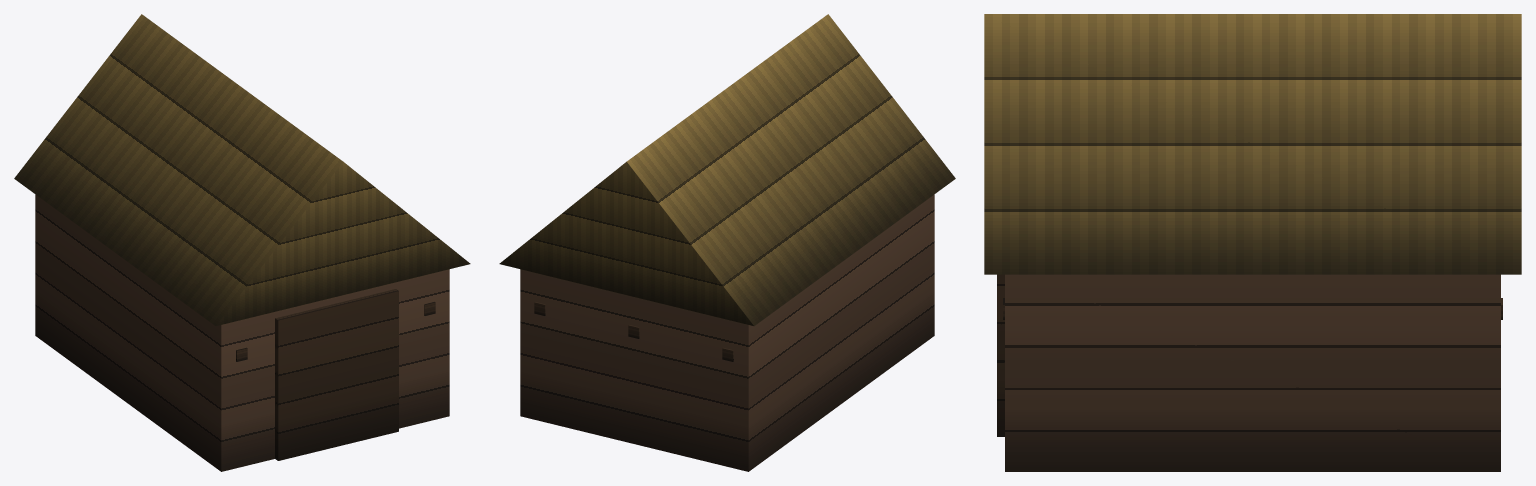
File: barn.glb
3 renders of one model, left to right at view 1: azimuth 30°, elevation 25°; view 2: azimuth 150°, elevation 25°; view 3: azimuth 270°, elevation 25°, orthographic. The views are drawn at different scales.
Visible parts, largest first — view 1: barn; view 2: barn; view 3: barn.
Part boxes in pixels (x1=…): barn: x1=14, y1=14, x2=470, y2=471; barn: x1=499, y1=14, x2=955, y2=471; barn: x1=984, y1=14, x2=1521, y2=471.
Size of the model in its own units: 1.9 by 2.05 by 2.6.
1 material, 1 textured.
